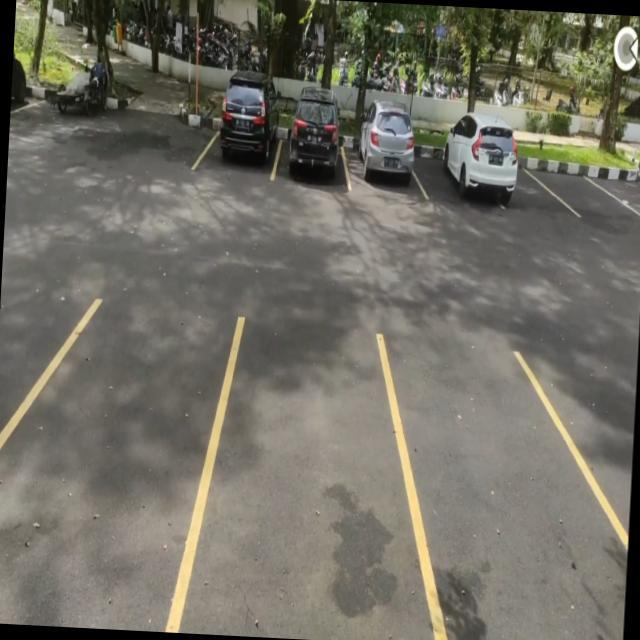empty: (0, 295, 217, 634), (197, 320, 421, 640), (407, 341, 604, 640), (557, 158, 623, 225)
occupied: (419, 113, 512, 210), (200, 97, 280, 182), (344, 111, 422, 198), (274, 100, 349, 188)
